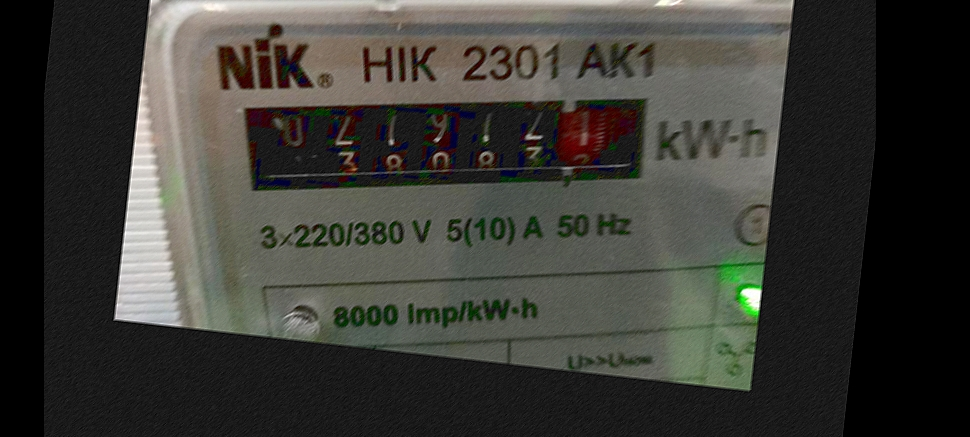0: (279, 108, 311, 147)
1: (574, 104, 600, 149)
2: (328, 105, 362, 147), (520, 102, 552, 142)
7: (472, 102, 503, 145), (379, 107, 406, 147)
9: (426, 105, 456, 143)
screen: (219, 42, 685, 245)
